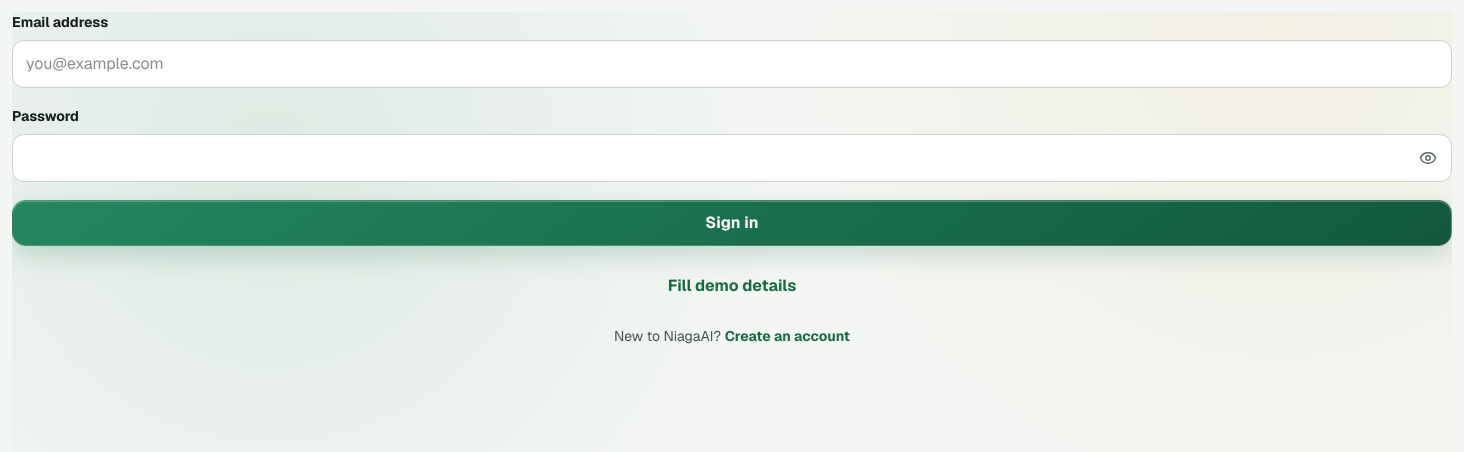
Test case: SignInForm › shows accessible field errors for invalid values
Type "not-an-email" into the field labelled "Email address". click: (732, 64)
box: [12, 40, 1452, 88]
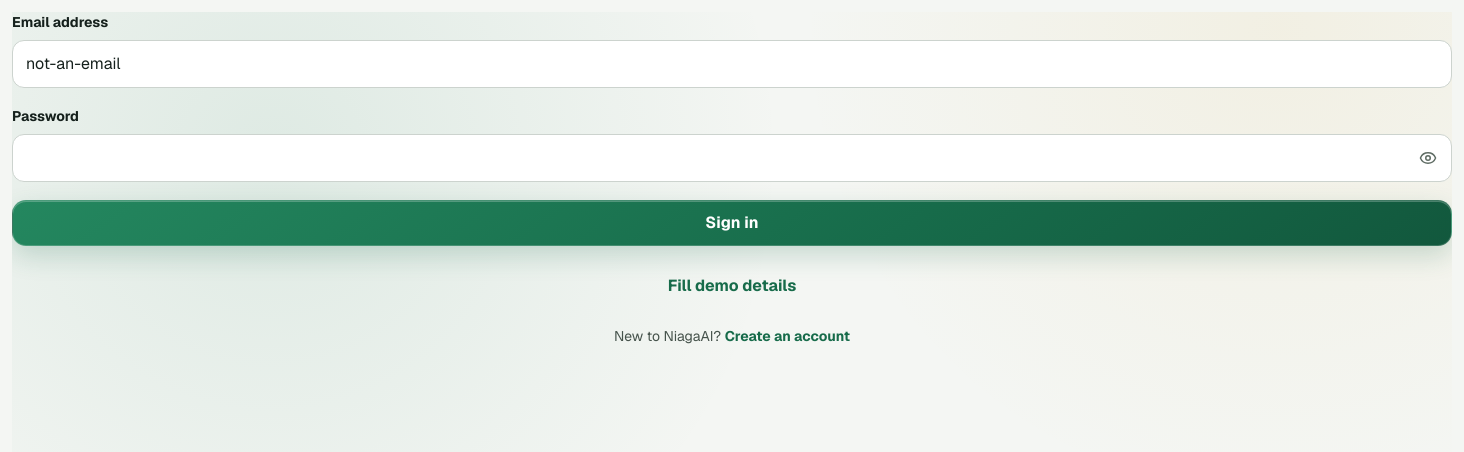
Type "short" into the password field labelled "Password". click: (732, 158)
box: [12, 134, 1452, 182]
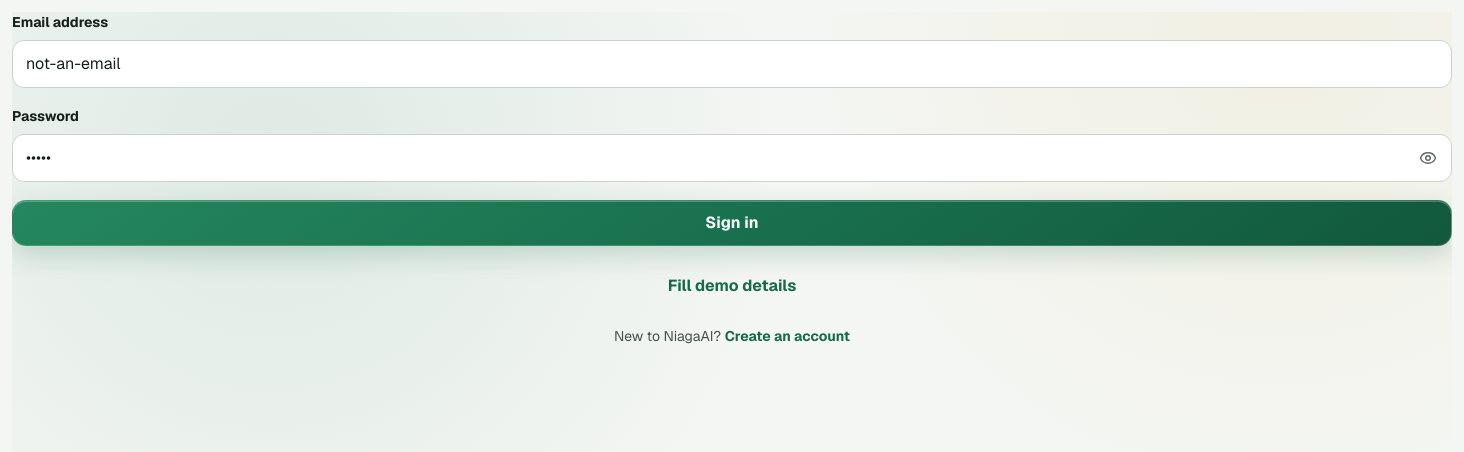
Click the button "Sign in". click: click(732, 223)
box: [12, 200, 1452, 246]
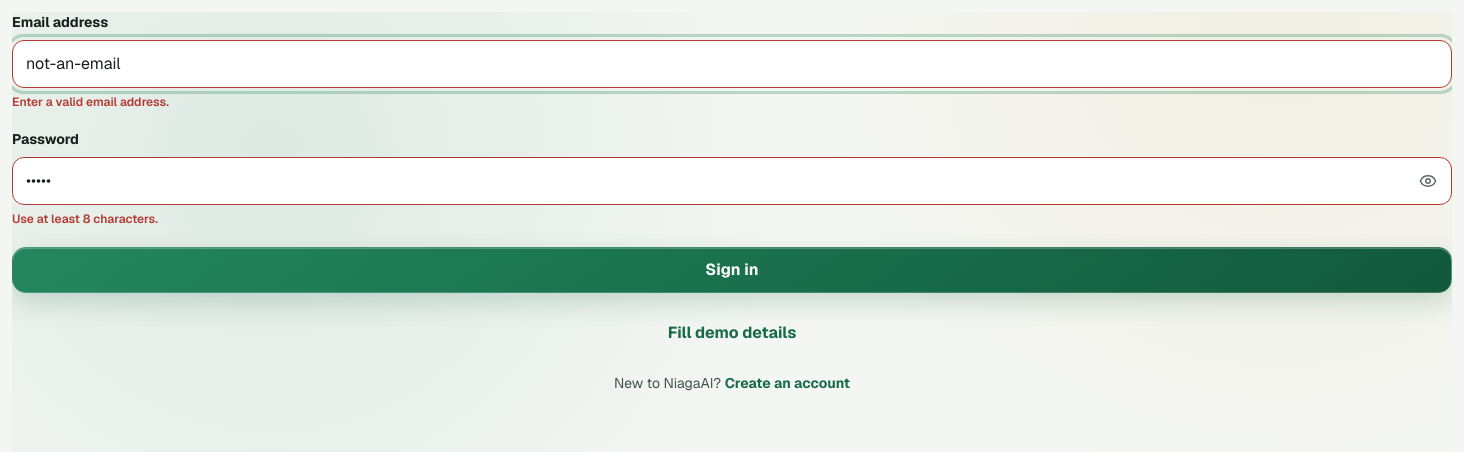
Result: the text "Enter a valid email address." is shown at [12, 94, 169, 110]
Result: the text "Use at least 8 characters." is shown at [12, 211, 158, 227]
